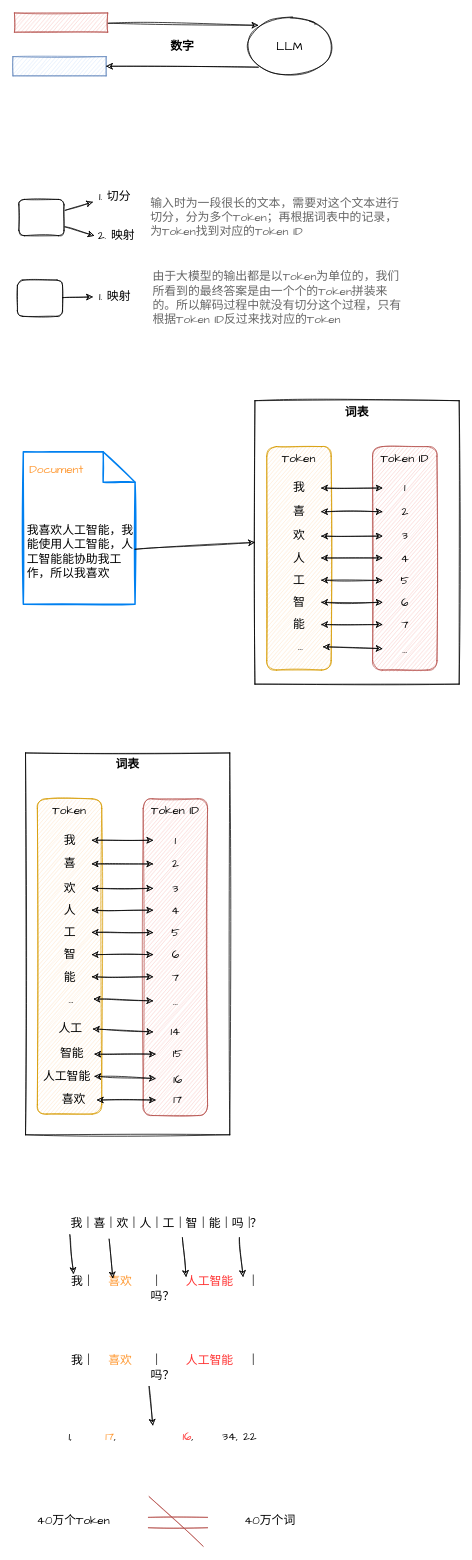
This 472x1560 diagram has some shape labels left out. The box of each missing label's shape, as (x1, y1, x2, y2) in pixels:
Input: (14, 12, 108, 32)
Ooutput: (12, 56, 106, 76)
编码: (18, 199, 64, 236)
解码: (17, 279, 63, 316)
